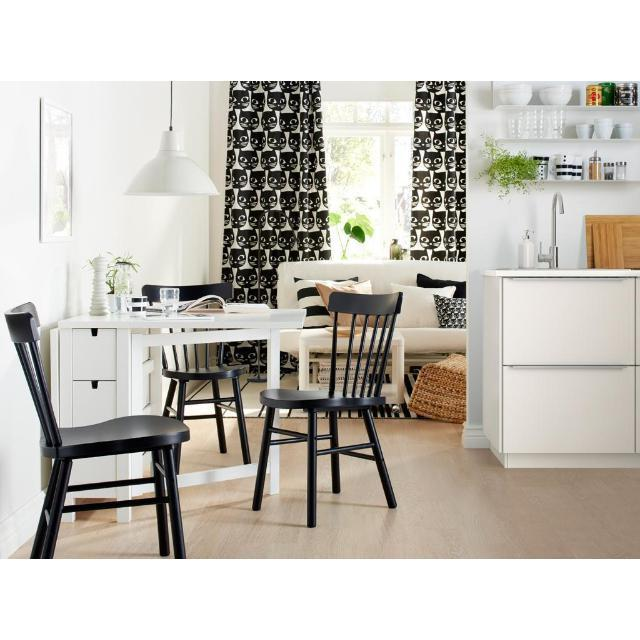chair: (5, 304, 190, 558), (252, 292, 402, 527), (162, 342, 250, 463)
curtain: (221, 81, 331, 307), (410, 81, 466, 261)
light: (125, 81, 219, 196)
pillow: (392, 284, 456, 328), (434, 295, 466, 328)
plant: (478, 135, 542, 199)
table: (51, 308, 306, 427)
wall-art: (40, 98, 72, 242)
